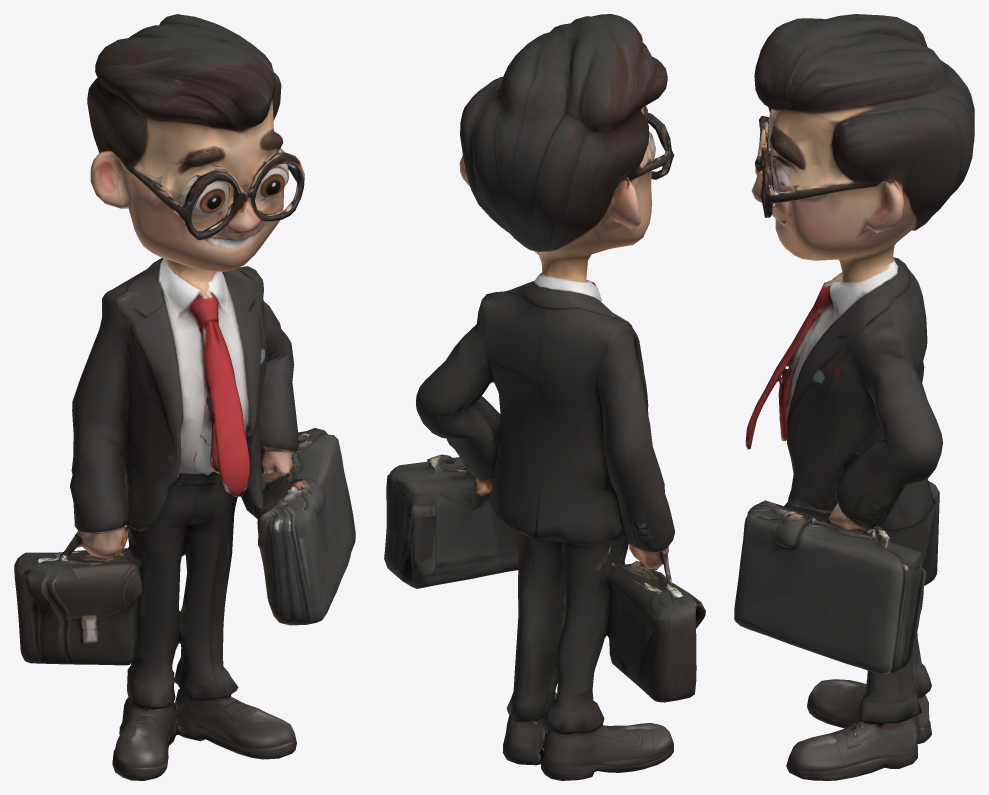
File: boss.glb
The picture shows the model from 3 angles, left to right: view 1: azimuth 30°, elevation 25°; view 2: azimuth 150°, elevation 25°; view 3: azimuth 270°, elevation 25°; orthographic projection.
Bounding box in the file's own units: 30899 × 65671 × 19932.
Materials: 1 (1 with a texture image).
